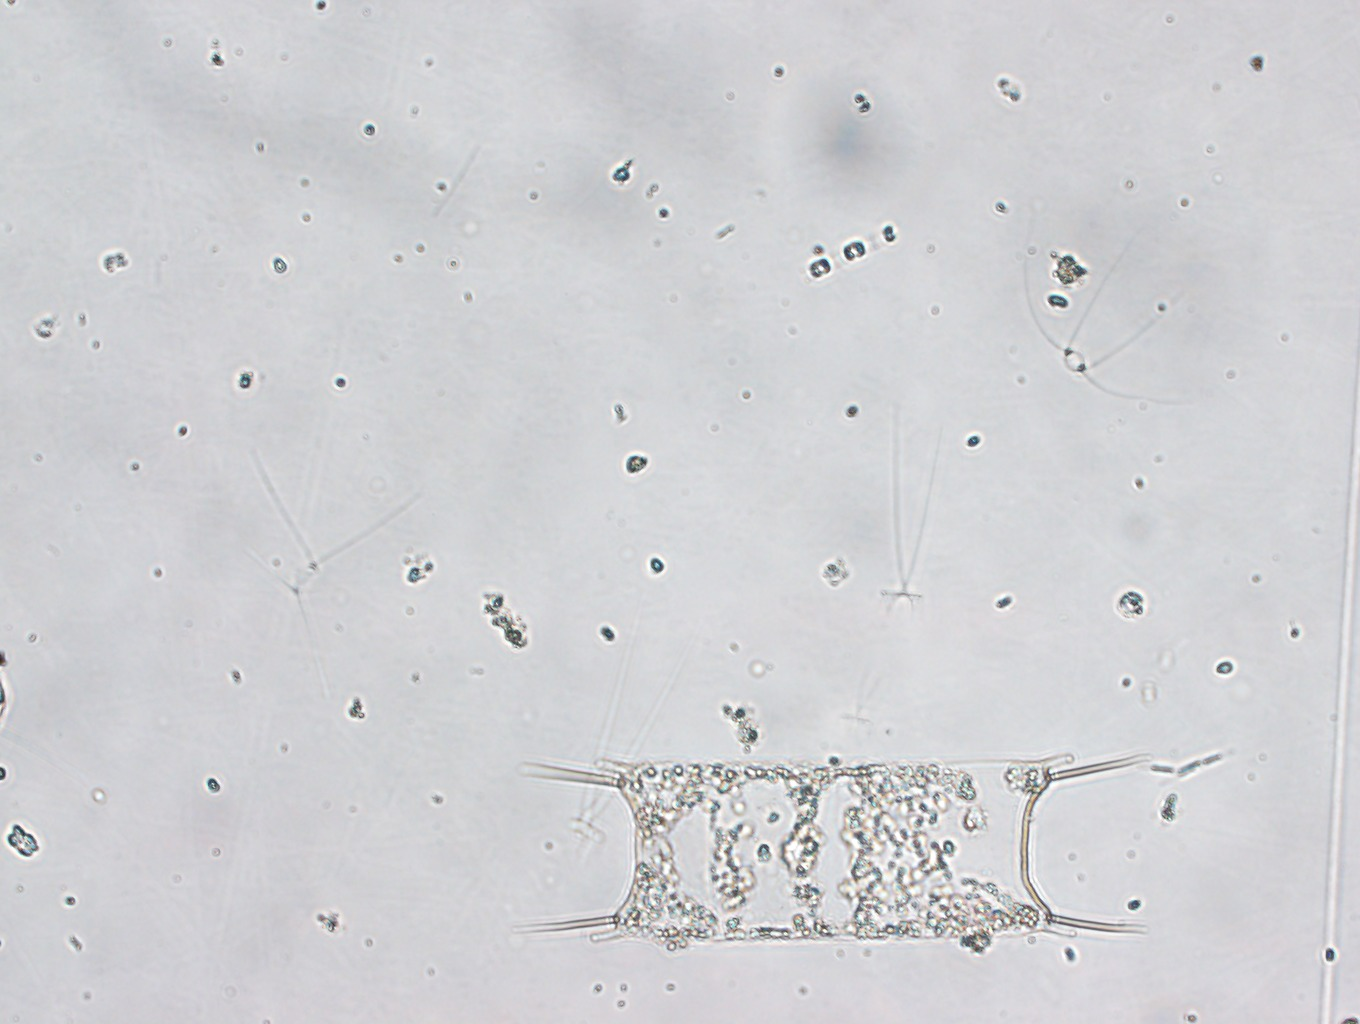biddulphia: (521, 745, 1251, 950)
